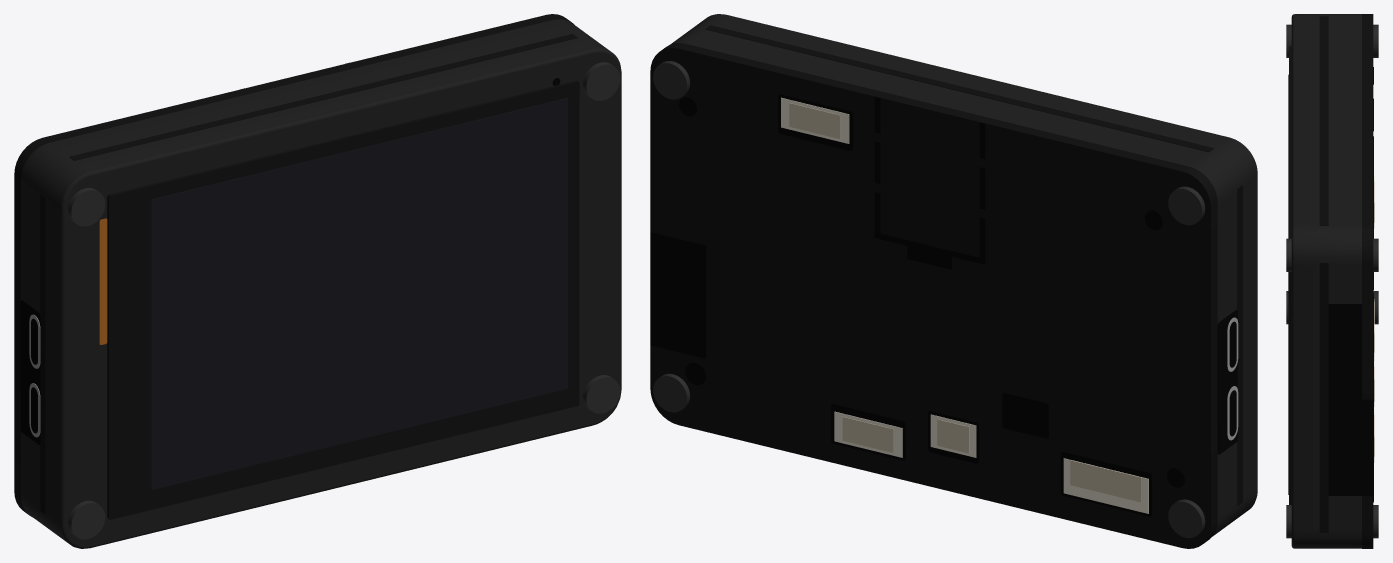
File: crowpanel_3_5.glb
3 renders of one model, left to right at view 1: azimuth 30°, elevation 25°; view 2: azimuth 150°, elevation 25°; view 3: azimuth 270°, elevation 25°, orthographic. The views are drawn at different scales.
Visible parts, largest first — view 1: Screen, Body, Glass, BackPlate, SeamTop, SeamLeft, USBWindow, FrontScrewLowerRight, FrontScrewUpperRight, FrontScrewLowerLeft, FrontScrewUpperLeft, FlexSlot; view 2: BackPlate, Body, ButtonCutoutBack, SeamTop, UART0Socket, SeamLeft, USBWindow, BATWindow, UART0, UART1Socket, I2CSocket, UART0Window (+12 smaller); view 3: Body, BackPlate, ButtonCutoutSide, SideWindow, SeamRight, SeamTop, Glass, Screen, FrontScrewLowerRight, FrontScrewUpperRight, BackScrewLowerRight, BackScrewUpperLeft (+3 smaller).
Boxes of the visible parts, x1=… form: Screen: x1=151, y1=98, x2=567, y2=490; Body: x1=21, y1=19, x2=621, y2=548; Glass: x1=107, y1=80, x2=579, y2=519; BackPlate: x1=14, y1=14, x2=574, y2=517; SeamTop: x1=69, y1=34, x2=577, y2=160; SeamLeft: x1=40, y1=193, x2=45, y2=514; USBWindow: x1=20, y1=300, x2=40, y2=444; FrontScrewLowerRight: x1=583, y1=375, x2=620, y2=413; FrontScrewUpperRight: x1=583, y1=62, x2=620, y2=100; FrontScrewLowerLeft: x1=68, y1=500, x2=105, y2=539; FrontScrewUpperLeft: x1=68, y1=188, x2=105, y2=226; FlexSlot: x1=99, y1=218, x2=107, y2=344; BackPlate: x1=650, y1=43, x2=1217, y2=548; Body: x1=670, y1=14, x2=1257, y2=536; ButtonCutoutBack: x1=650, y1=232, x2=706, y2=358; SeamTop: x1=705, y1=25, x2=1214, y2=152; UART0Socket: x1=1070, y1=460, x2=1141, y2=502; SeamLeft: x1=1237, y1=185, x2=1242, y2=505; USBWindow: x1=1217, y1=310, x2=1237, y2=454; BATWindow: x1=1002, y1=393, x2=1048, y2=438; UART0: x1=1063, y1=458, x2=1148, y2=513; UART1Socket: x1=789, y1=103, x2=840, y2=139; I2CSocket: x1=842, y1=417, x2=893, y2=452; UART0Window: x1=1060, y1=451, x2=1152, y2=516; Body: x1=1291, y1=14, x2=1361, y2=548; BackPlate: x1=1362, y1=14, x2=1373, y2=548; ButtonCutoutSide: x1=1328, y1=399, x2=1373, y2=495; SideWindow: x1=1328, y1=304, x2=1361, y2=399; SeamRight: x1=1319, y1=263, x2=1328, y2=532; SeamTop: x1=1319, y1=16, x2=1328, y2=225; Glass: x1=1289, y1=46, x2=1291, y2=504; Screen: x1=1288, y1=74, x2=1288, y2=494; FrontScrewLowerRight: x1=1286, y1=505, x2=1291, y2=538; FrontScrewUpperRight: x1=1286, y1=238, x2=1291, y2=271; BackScrewLowerRight: x1=1373, y1=505, x2=1378, y2=538; BackScrewUpperLeft: x1=1373, y1=24, x2=1378, y2=57.
Size of the model in its own units: 0.0991 by 0.0636 by 0.0166.
